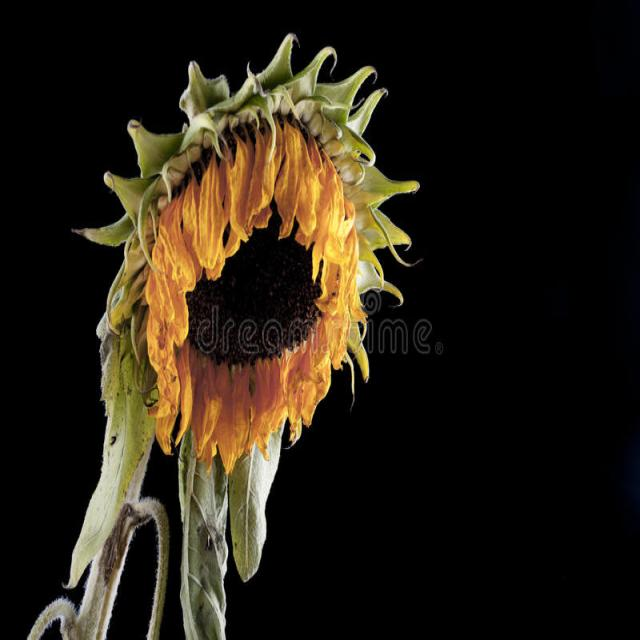sunflower: (87, 50, 417, 483)
